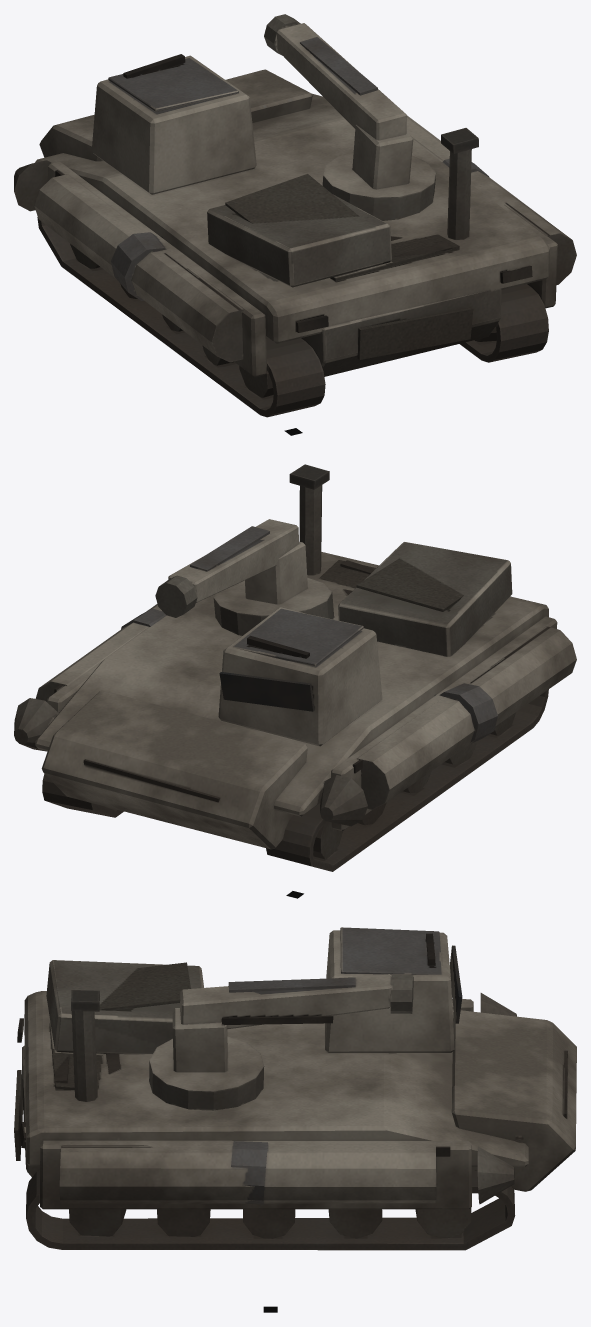
File: ord_pontifex_wreck.fbx
3 renders of one model, top to bottom at view 1: azimuth 30°, elevation 25°; view 2: azimuth 150°, elevation 25°; view 3: azimuth 270°, elevation 25°, orthographic. The views are drawn at different scales.
Visible parts, largest first — view 1: base_bar, nano_bar, trackL_bar, trackR_bar; view 2: base_bar, nano_bar, trackL_bar, trackR_bar; view 3: base_bar, trackR_bar, nano_bar.
Boxes of the visible parts, <box> form: base_bar: <box>14,54,576,377</box>; nano_bar: <box>264,14,436,220</box>; trackL_bar: <box>37,217,325,417</box>; trackR_bar: <box>460,284,548,362</box>; base_bar: <box>14,464,576,849</box>; nano_bar: <box>155,519,334,635</box>; trackL_bar: <box>266,689,548,871</box>; trackR_bar: <box>42,774,123,817</box>; base_bar: <box>14,927,576,1209</box>; trackR_bar: <box>26,1170,515,1250</box>; nano_bar: <box>149,974,413,1110</box>.
Size of the model in its own units: 622 by 565 by 799.
2 materials, 2 textured.
